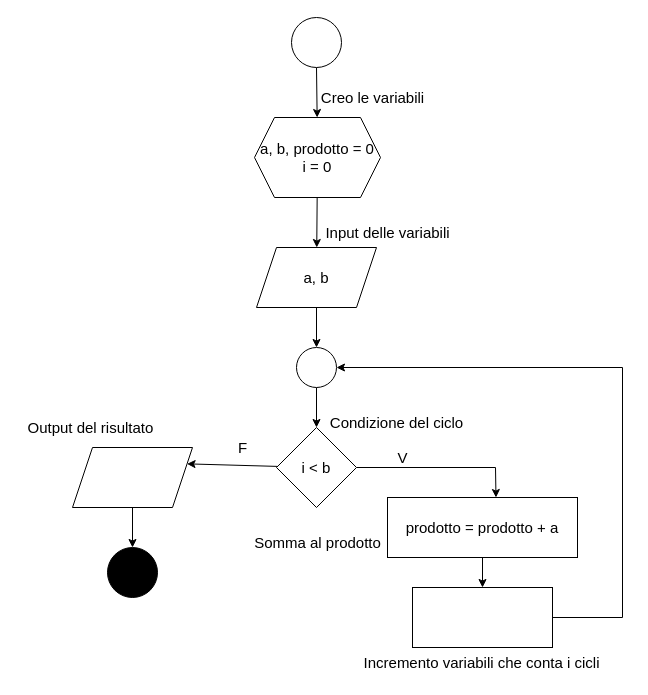
Some shapes in this 648 by 695 pixel diagram are drawn without their labels. The centre of each missing label's shape, as x and y in pixels:
"i = i + 1" goes at pixel 482 617.
"prodotto" goes at pixel 132 477.
